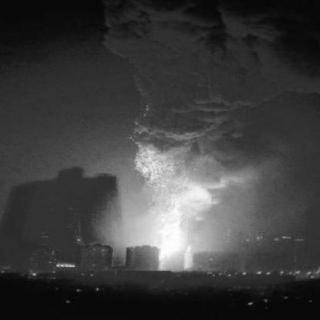Smoke: (112, 15, 282, 146)
